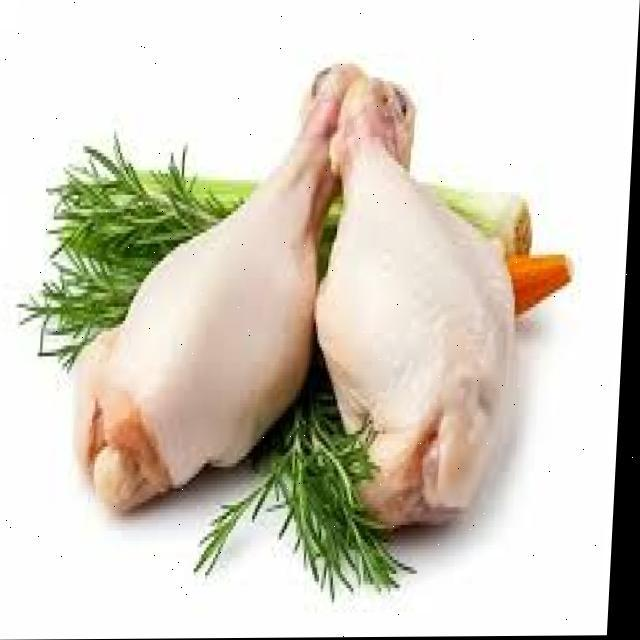leg: (92, 58, 338, 473), (321, 76, 526, 522)
